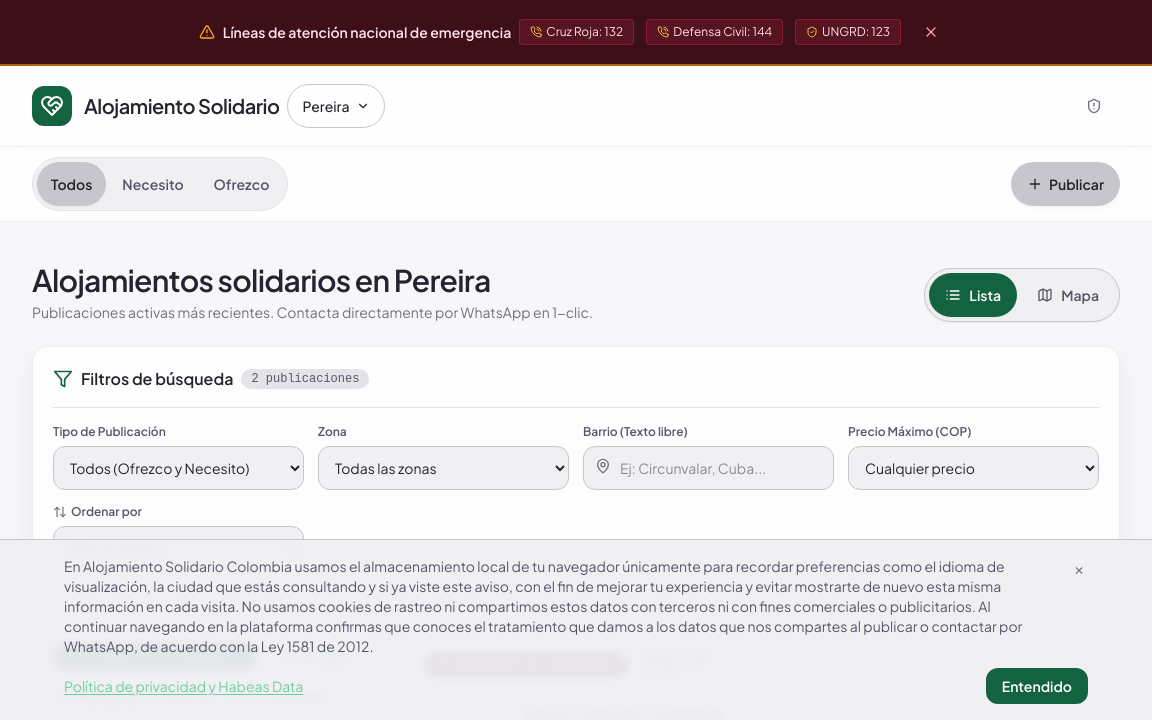
Test: EmergencyBanner dismiss/reopen (US-1.5) › al cerrar con el botón "×", desaparece y se recuerda en localStorage
expect the text "Líneas de atención nacional de emergencia" is shown: met, box [223, 22, 511, 42]
Click the button named "Cerrar aviso de líneas de emergencia".
click(931, 32)  # box [909, 10, 953, 54]
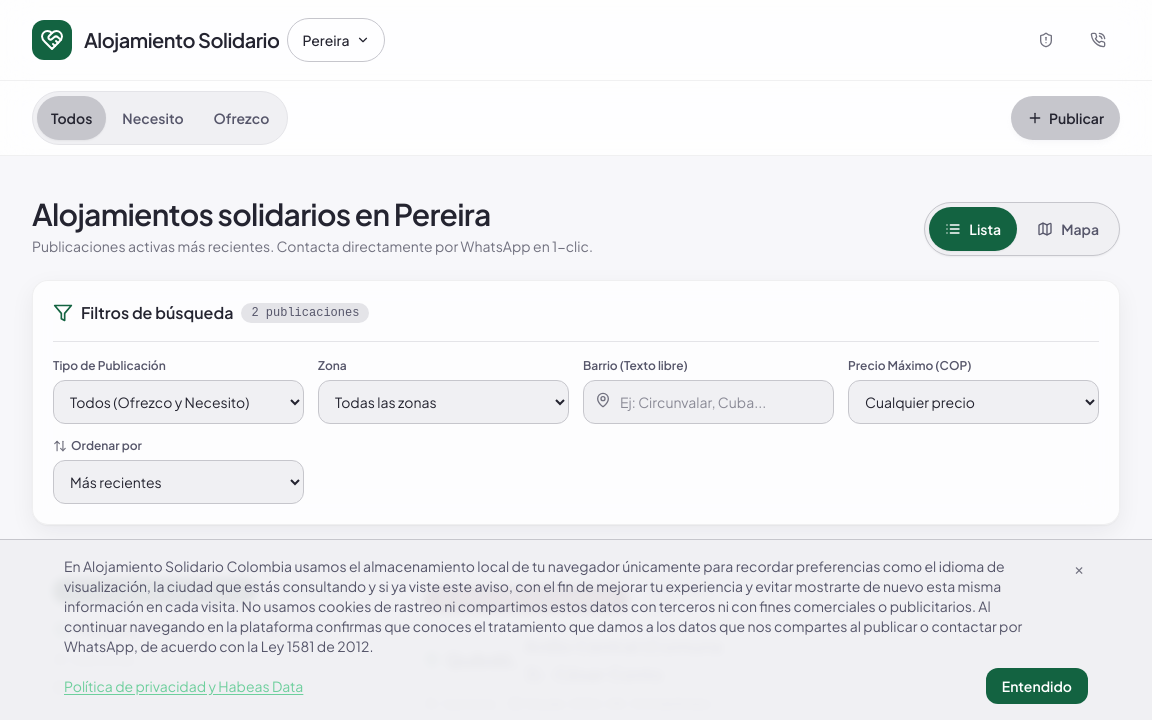
expect the button "Líneas de atención nacional de emergencia" is gone: met
expect the button named "Mostrar líneas de atención de emergencia" is shown: met, box [1076, 18, 1120, 62]
